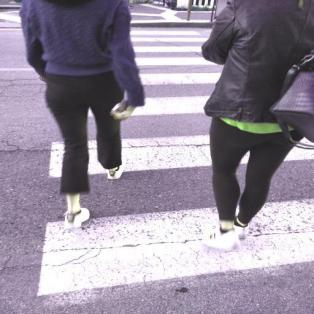Paso de Cebra: (31, 129, 313, 301)
